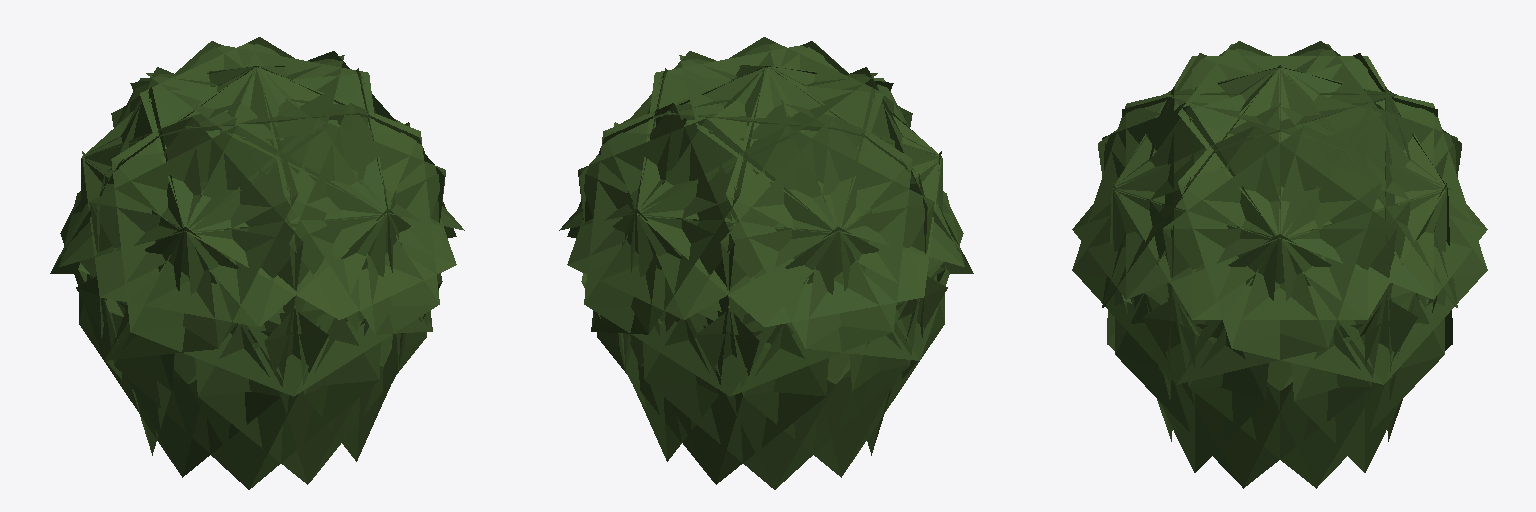
The picture shows the model from 3 angles: view 1: azimuth 30°, elevation 25°; view 2: azimuth 150°, elevation 25°; view 3: azimuth 270°, elevation 25°; orthographic projection.
Parts seen in each view (by area): view 1: Icosphere; view 2: Icosphere; view 3: Icosphere.
Part boxes in pixels (bbox=[...]): Icosphere: bbox=[50, 37, 464, 489]; Icosphere: bbox=[559, 37, 973, 489]; Icosphere: bbox=[1072, 41, 1487, 488].
Size of the model in its own units: 6.83 by 6.99 by 6.96.
Materials: 1 (1 with a texture image).